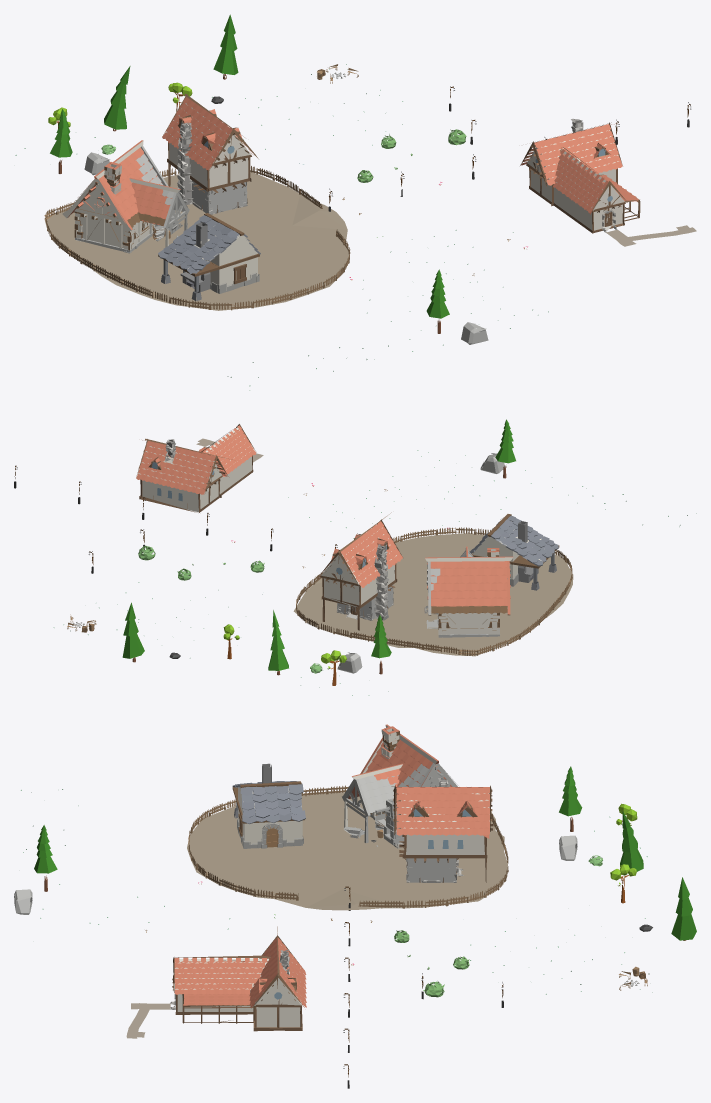
The model's file is chunk_0_1_lod1.glb.
3 renders of one model, top to bottom at view 1: azimuth 30°, elevation 25°; view 2: azimuth 150°, elevation 25°; view 3: azimuth 270°, elevation 25°, orthographic. The views are drawn at different scales.
Visible parts, largest first — view 1: Batched_chunk_0_1_lod1; view 2: Batched_chunk_0_1_lod1; view 3: Batched_chunk_0_1_lod1.
Boxes of the visible parts, bbox=[...] form: Batched_chunk_0_1_lod1: bbox=[15, 14, 696, 390]; Batched_chunk_0_1_lod1: bbox=[14, 419, 696, 695]; Batched_chunk_0_1_lod1: bbox=[14, 724, 696, 1088].
Size of the model in its own units: 99.84 by 14.89 by 96.49.
Materials: 41 (2 with a texture image).
